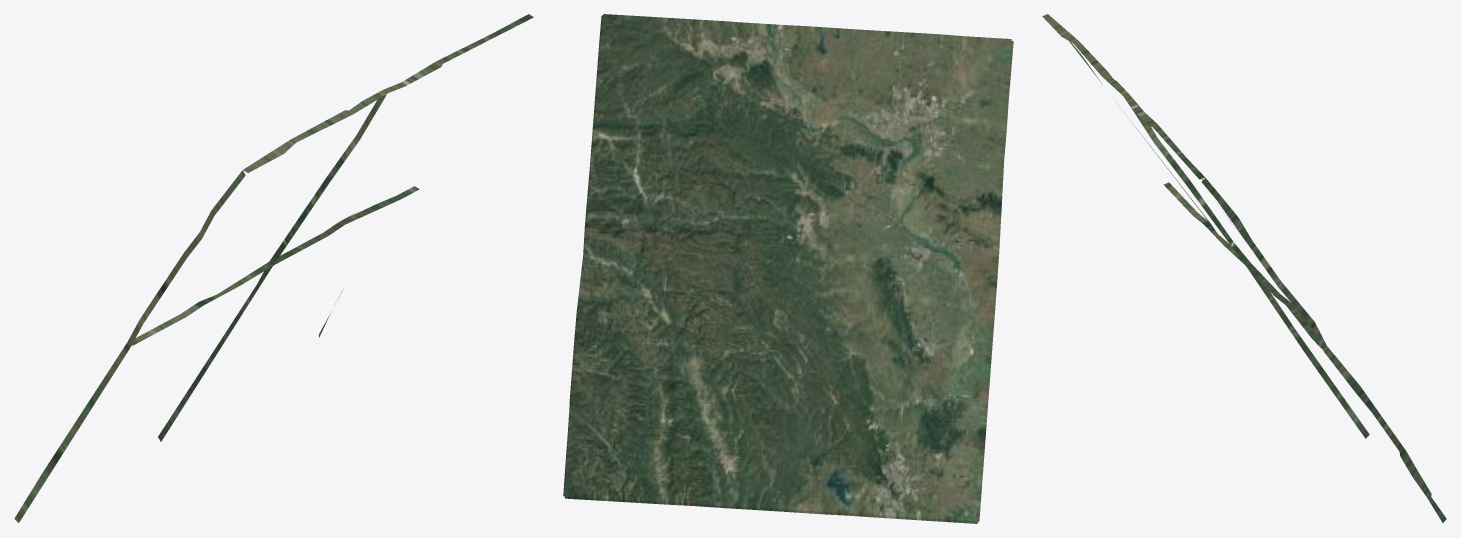
3 views of the same model, side by side, from view 1: azimuth 30°, elevation 25°; view 2: azimuth 150°, elevation 25°; view 3: azimuth 270°, elevation 25° (orthographic). The views are drawn at different scales.
Size of the model in its own units: 156348 by 135635 by 128343.
Materials: 1 (1 with a texture image).
